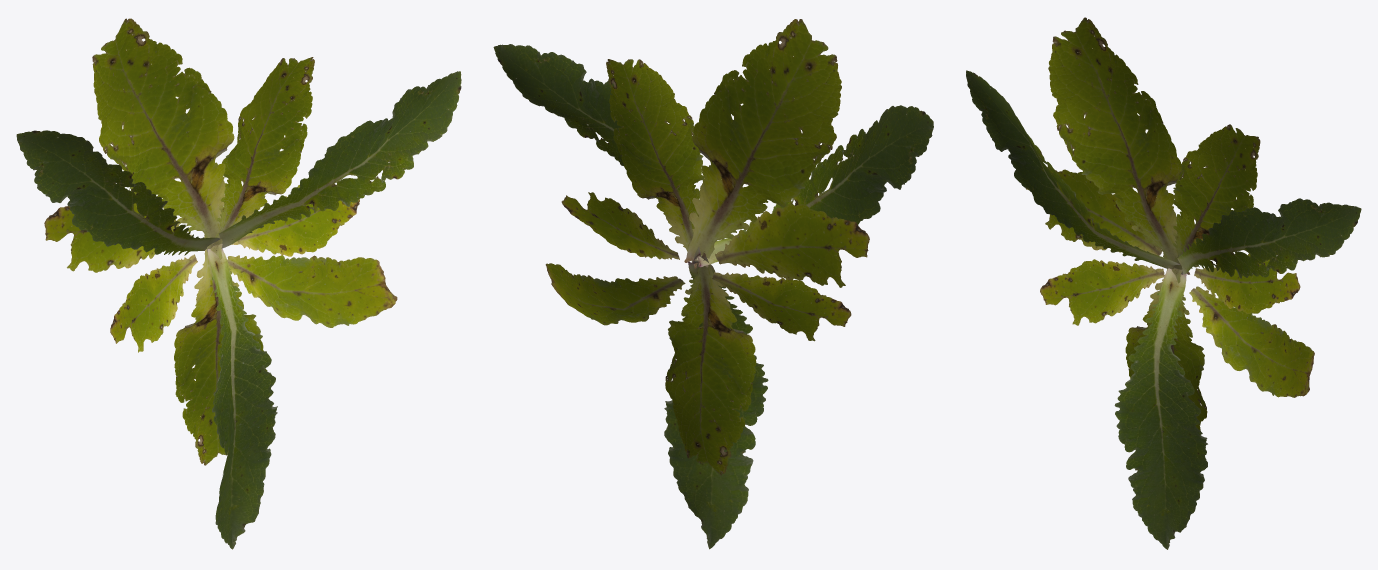
Rendered from Weed_01_Var2_LOD0.fbx.
3 views of the same model, side by side, from view 1: azimuth 30°, elevation 25°; view 2: azimuth 150°, elevation 25°; view 3: azimuth 330°, elevation 25° (orthographic). The views are drawn at different scales.
Parts seen in each view (by area): view 1: Var2_LOD0; view 2: Var2_LOD0; view 3: Var2_LOD0.
Boxes of the visible parts, x1=… form: Var2_LOD0: x1=16, y1=18, x2=461, y2=549; Var2_LOD0: x1=493, y1=19, x2=933, y2=549; Var2_LOD0: x1=966, y1=17, x2=1361, y2=549.
Size of the model in its own units: 31.55 by 38.18 by 5.3.
